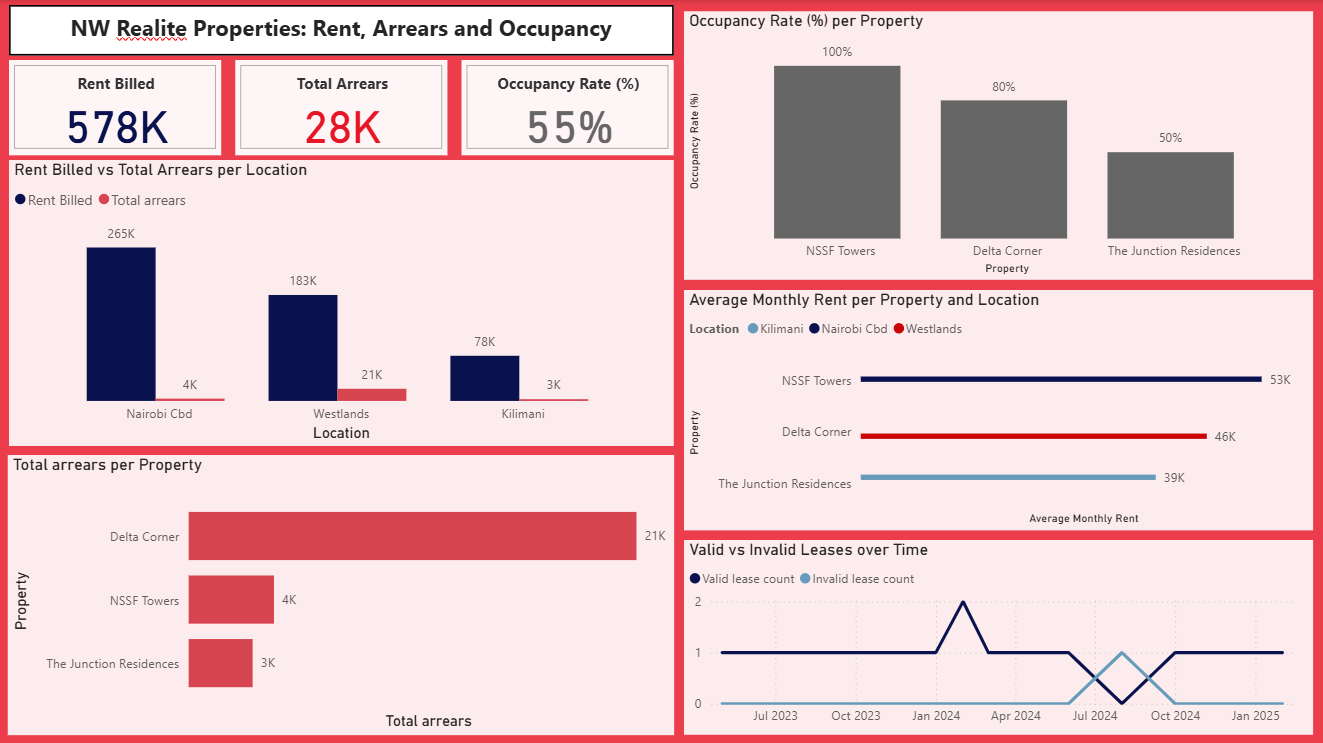

This screenshot's page, from the dashboard's own definition file:
{"tool":"powerbi","page":{"name":"Rent and Arrears","canvas":[1280,720],"ordinal":0},"visuals":[{"type":"clusteredColumnChart","title":"Rent Billed vs Total Arrears per Location","fields":{"Category":["locations.name"],"Y":["Sum(leases.rent_per_month)","Sum(leases.arrears)"]},"box":[9.7,154.4,641.8,276.3],"z":0},{"type":"clusteredColumnChart","title":"Occupancy Rate (%) per Property","fields":{"Category":["properties.name"],"Y":["Calculations.Occupancy Rate (%)"]},"box":[661.1,10.9,607,259.4],"z":1000},{"type":"clusteredBarChart","title":"Total arrears per Property","fields":{"Category":["properties.name"],"Y":["Sum(leases.arrears)"]},"box":[8.4,439.1,643,270.2],"z":2000},{"type":"clusteredBarChart","title":"Average Monthly Rent per Property and Location","fields":{"Category":["properties.property_name"],"Y":["Avg(leases.rent_per_month)"],"Series":["locations.location_name"]},"box":[661.1,279.9,606.8,231.6],"z":3000},{"type":"cardVisual","fields":{"Data":["Sum(leases.rent_per_month)"]},"box":[9.7,58,205,91.7],"z":4000},{"type":"cardVisual","fields":{"Data":["Sum(leases.arrears)"]},"box":[228,57.9,205.1,91.7],"z":5000},{"type":"cardVisual","fields":{"Data":["Calculations.Occupancy Rate (%)"]},"box":[446.4,57.9,205.1,91.7],"z":6000},{"type":"lineChart","title":"Valid vs Invalid Leases over Time","fields":{"Y":["Calculations.Valid lease count","Calculations.Invalid lease count"],"Category":["leases.start_date.Variation.Date Hierarchy.Year","leases.start_date.Variation.Date Hierarchy.Month"]},"box":[661.1,521.2,606.8,188.2],"z":7000},{"type":"textbox","box":[9.7,5,641.8,49],"z":8000}]}

Visuals, with their boxes in screenshot pixels (x1, y1, x2, y2), scaled from the page's 1280x720 canvas onto the 1323x743 screenshot:
"Rent Billed vs Total Arrears per Location" clusteredColumnChart: crop(10, 159, 673, 444)
"Occupancy Rate (%) per Property" clusteredColumnChart: crop(683, 11, 1311, 279)
"Total arrears per Property" clusteredBarChart: crop(9, 453, 673, 732)
"Average Monthly Rent per Property and Location" clusteredBarChart: crop(683, 289, 1310, 528)
cardVisual - Sum(leases.rent_per_month): crop(10, 60, 222, 154)
cardVisual - Sum(leases.arrears): crop(236, 60, 448, 154)
cardVisual - Calculations.Occupancy Rate (%): crop(461, 60, 673, 154)
"Valid vs Invalid Leases over Time" lineChart: crop(683, 538, 1310, 732)
textbox: crop(10, 5, 673, 56)
